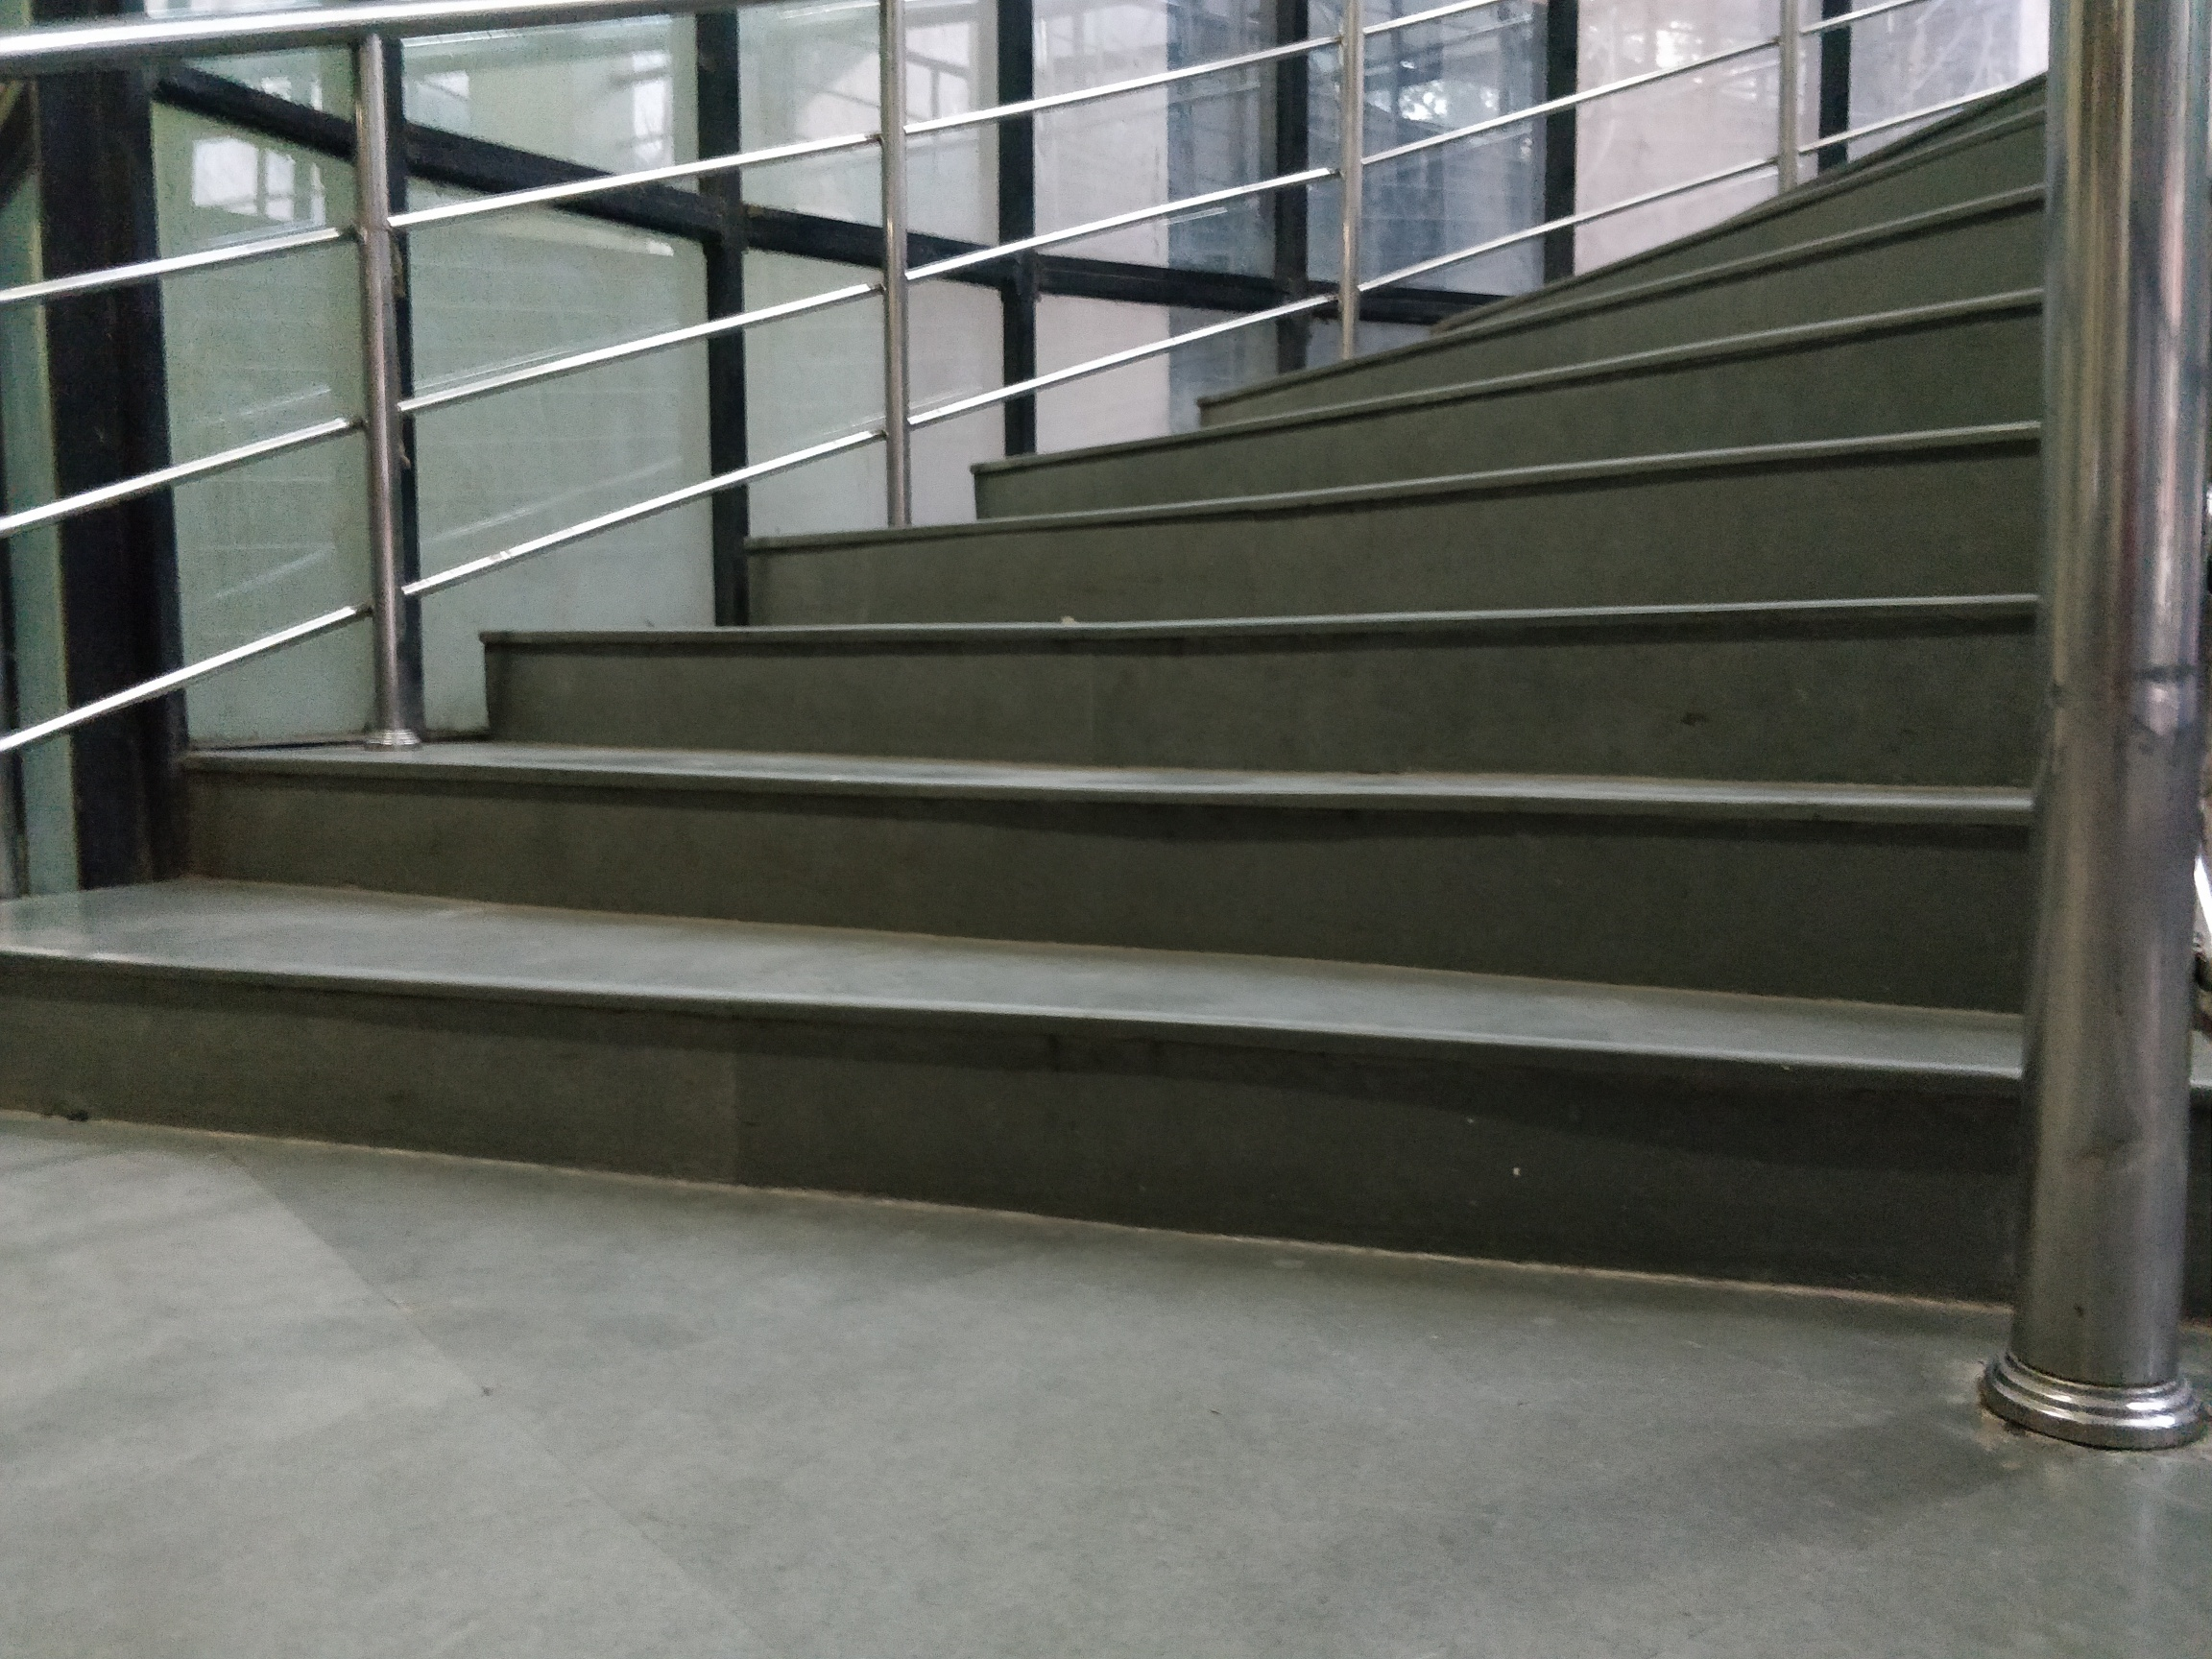stairs_up: (23, 134, 2047, 1164)
